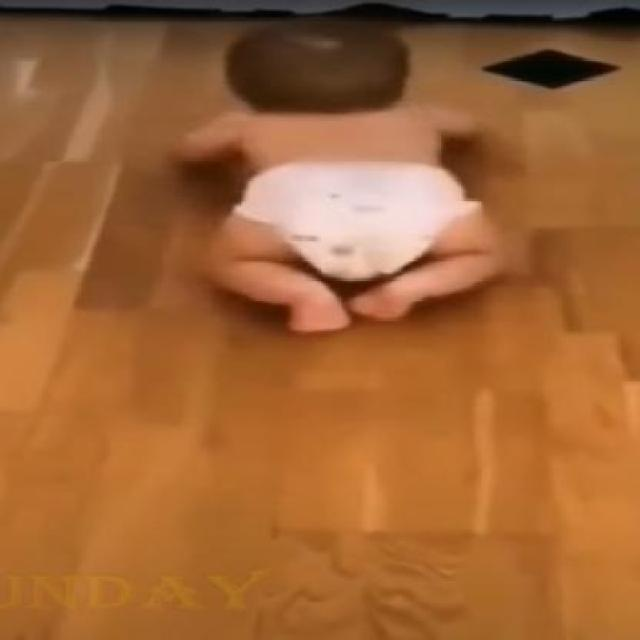baby: (169, 21, 506, 332)
